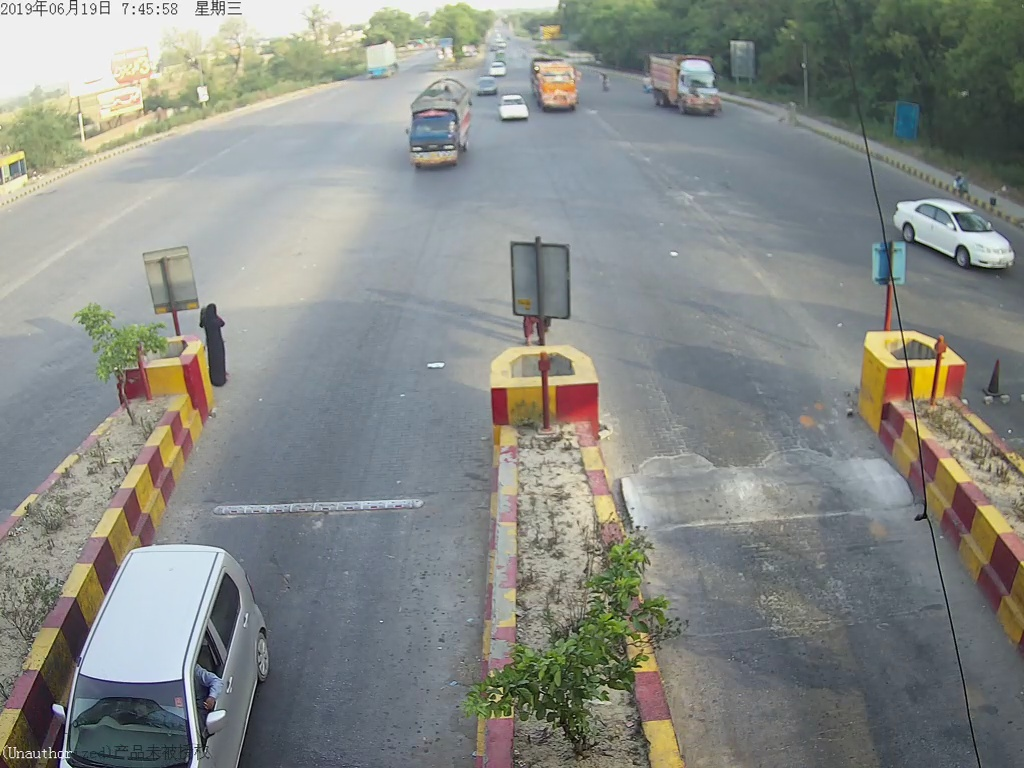Cat-4: (412, 83, 470, 173)
